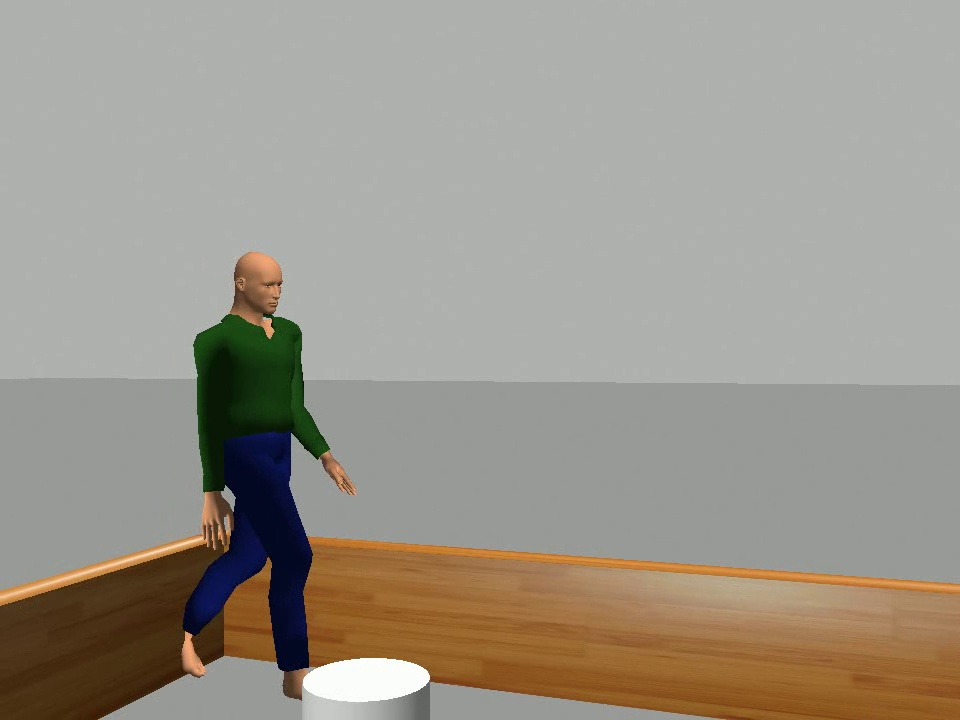person: (178, 249, 360, 707)
